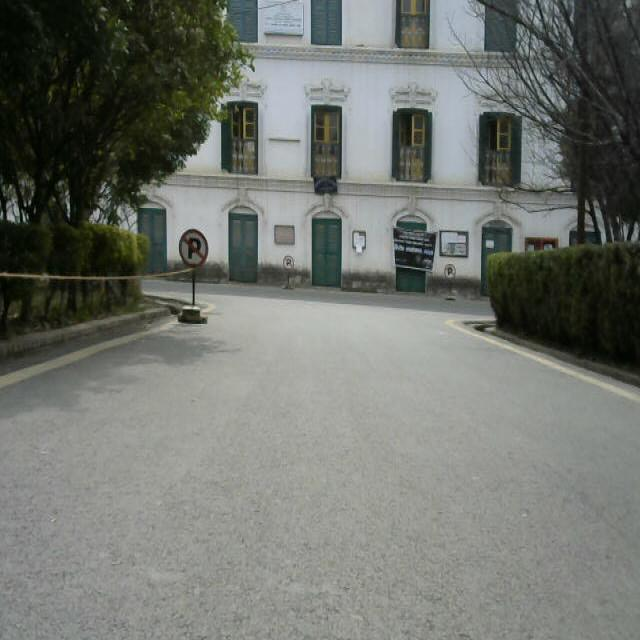Buildings: (239, 10, 606, 286)
NoParking: (176, 227, 220, 334), (279, 247, 299, 301), (444, 252, 461, 308)
Road: (0, 280, 640, 640)
trees: (0, 3, 241, 197), (486, 16, 640, 205)
